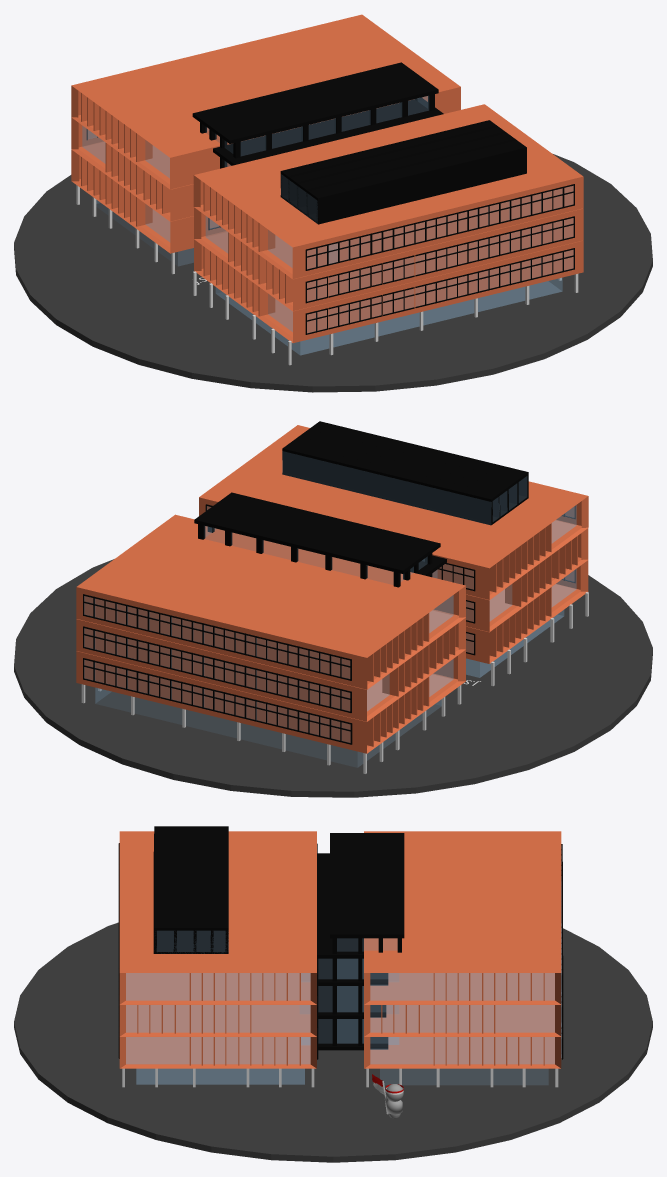
The model's file is UOW.glb.
3 renders of one model, top to bottom at view 1: azimuth 30°, elevation 25°; view 2: azimuth 150°, elevation 25°; view 3: azimuth 270°, elevation 25°, orthographic.
Parts seen in each view (by area): view 1: Cylinder, Cube.033, Cube.078, Cube.022, Cube.001, Cube.1342, Cube.1363, Cube.1365, Cube.1335, Cube, Cube.112, Cube.089 (+7 smaller); view 2: Cylinder, Cube.078, Cube.033, Cube.110, Cube.089, Cube.1342, Cube.1363, Cube.1344, Cube.1369, Cube.111, Cube.001, Cube.112 (+6 smaller); view 3: Cylinder, Cube.078, Cube.033, Cube.1342, Cube.1363, Cube.001, Cube.022, Cube.089, Cube.110, Cube.1332, Cube.1333, Cube.1337 (+14 smaller).
Part boxes in pixels (bbox=[...]): Cylinder: bbox=[14, 154, 652, 392]; Cube.033: bbox=[193, 104, 583, 278]; Cube.078: bbox=[71, 14, 460, 189]; Cube.022: bbox=[194, 207, 583, 310]; Cube.001: bbox=[194, 239, 583, 343]; Cube.1342: bbox=[192, 62, 438, 143]; Cube.1363: bbox=[280, 121, 526, 200]; Cube.1365: bbox=[316, 150, 526, 224]; Cube.1335: bbox=[213, 98, 443, 165]; Cube: bbox=[216, 278, 562, 355]; Cube.112: bbox=[206, 96, 428, 166]; Cube.089: bbox=[71, 117, 193, 221]; Cylinder: bbox=[14, 559, 652, 797]; Cube.078: bbox=[76, 514, 465, 689]; Cube.033: bbox=[199, 425, 588, 599]; Cube.110: bbox=[76, 649, 465, 753]; Cube.089: bbox=[76, 618, 465, 721]; Cube.1342: bbox=[194, 492, 440, 573]; Cube.1363: bbox=[284, 421, 528, 501]; Cube.1344: bbox=[282, 451, 526, 524]; Cube.1369: bbox=[282, 447, 492, 523]; Cube.111: bbox=[95, 688, 441, 767]; Cube.001: bbox=[466, 560, 588, 663]; Cube.112: bbox=[204, 526, 427, 584]; Cylinder: bbox=[14, 922, 652, 1162]; Cube.078: bbox=[364, 831, 561, 1004]; Cube.033: bbox=[119, 831, 316, 1004]; Cube.1342: bbox=[330, 833, 404, 938]; Cube.1363: bbox=[154, 826, 228, 930]; Cube.001: bbox=[119, 1036, 316, 1068]; Cube.022: bbox=[119, 1004, 316, 1036]; Cube.089: bbox=[364, 1004, 561, 1036]; Cube.110: bbox=[364, 1036, 561, 1068]; Cube.1332: bbox=[370, 973, 554, 1000]; Cube.1333: bbox=[370, 1005, 554, 1032]; Cube.1337: bbox=[126, 1005, 310, 1032].
Size of the model in its own units: 69.84 by 18.12 by 69.84.
